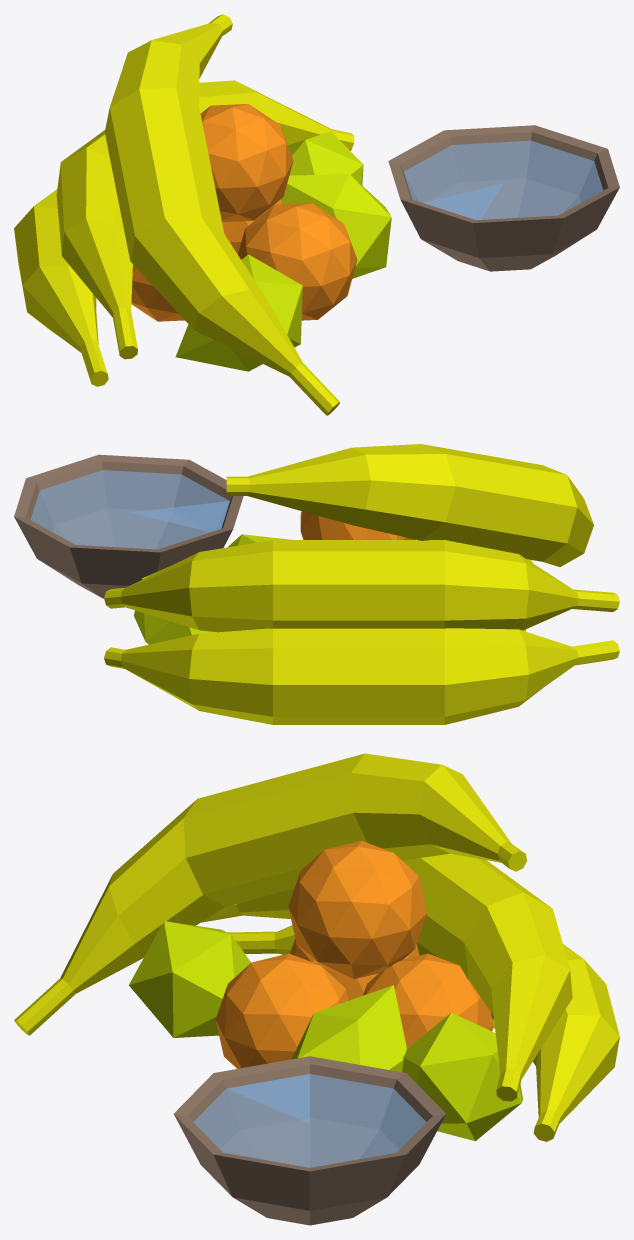
Rendered from froot.glb.
3 renders of one model, top to bottom at view 1: azimuth 30°, elevation 25°; view 2: azimuth 150°, elevation 25°; view 3: azimuth 270°, elevation 25°, orthographic. The views are drawn at different scales.
Parts seen in each view (by area): view 1: banan.002, Sphere, banan.001, Plane, orang, banan, orang.002, guab, guab.002, guab.001, orang.001, orang.003; view 2: banan, banan.001, banan.002, Sphere, Plane, orang.002, guab.001; view 3: banan.002, Sphere, banan.001, Plane, orang.002, banan, orang, guab.002, guab.001, guab, orang.003, orang.001.
Part boxes in pixels (left/top/right/bottom): banan.002: left=104, top=14, right=340, bottom=415; Sphere: left=388, top=125, right=619, bottom=271; banan.001: left=56, top=80, right=354, bottom=359; Plane: left=404, top=140, right=603, bottom=220; orang: left=238, top=203, right=357, bottom=320; banan: left=14, top=189, right=108, bottom=386; orang.002: left=200, top=104, right=293, bottom=221; guab: left=280, top=174, right=391, bottom=278; guab.002: left=175, top=254, right=302, bottom=371; guab.001: left=288, top=131, right=363, bottom=185; orang.001: left=131, top=229, right=226, bottom=321; orang.003: left=222, top=199, right=281, bottom=254; banan: left=104, top=628, right=619, bottom=724; banan.001: left=104, top=540, right=619, bottom=632; banan.002: left=226, top=444, right=593, bottom=566; Sphere: left=14, top=454, right=243, bottom=598; Plane: left=30, top=470, right=229, bottom=549; orang.002: left=300, top=511, right=415, bottom=539; guab.001: left=134, top=567, right=216, bottom=644; banan.002: left=14, top=753, right=527, bottom=1035; Sphere: left=174, top=1056, right=445, bottom=1225; banan.001: left=201, top=853, right=572, bottom=1101; Plane: left=193, top=1074, right=426, bottom=1167; orang.002: left=288, top=840, right=427, bottom=979; banan: left=227, top=925, right=619, bottom=1141; orang: left=215, top=953, right=348, bottom=1068; guab.002: left=129, top=921, right=251, bottom=1037; guab.001: left=402, top=1012, right=522, bottom=1141; guab: left=291, top=985, right=406, bottom=1072; orang.003: left=363, top=953, right=493, bottom=1048; orang.001: left=290, top=938, right=419, bottom=1000.
Bounding box in the file's own units: 2.61 × 1.11 × 2.17.
